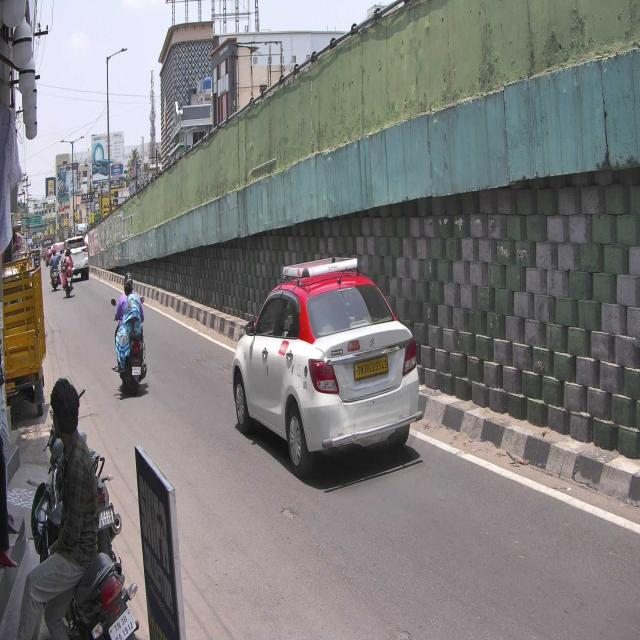double_rider: (109, 270, 149, 395)
